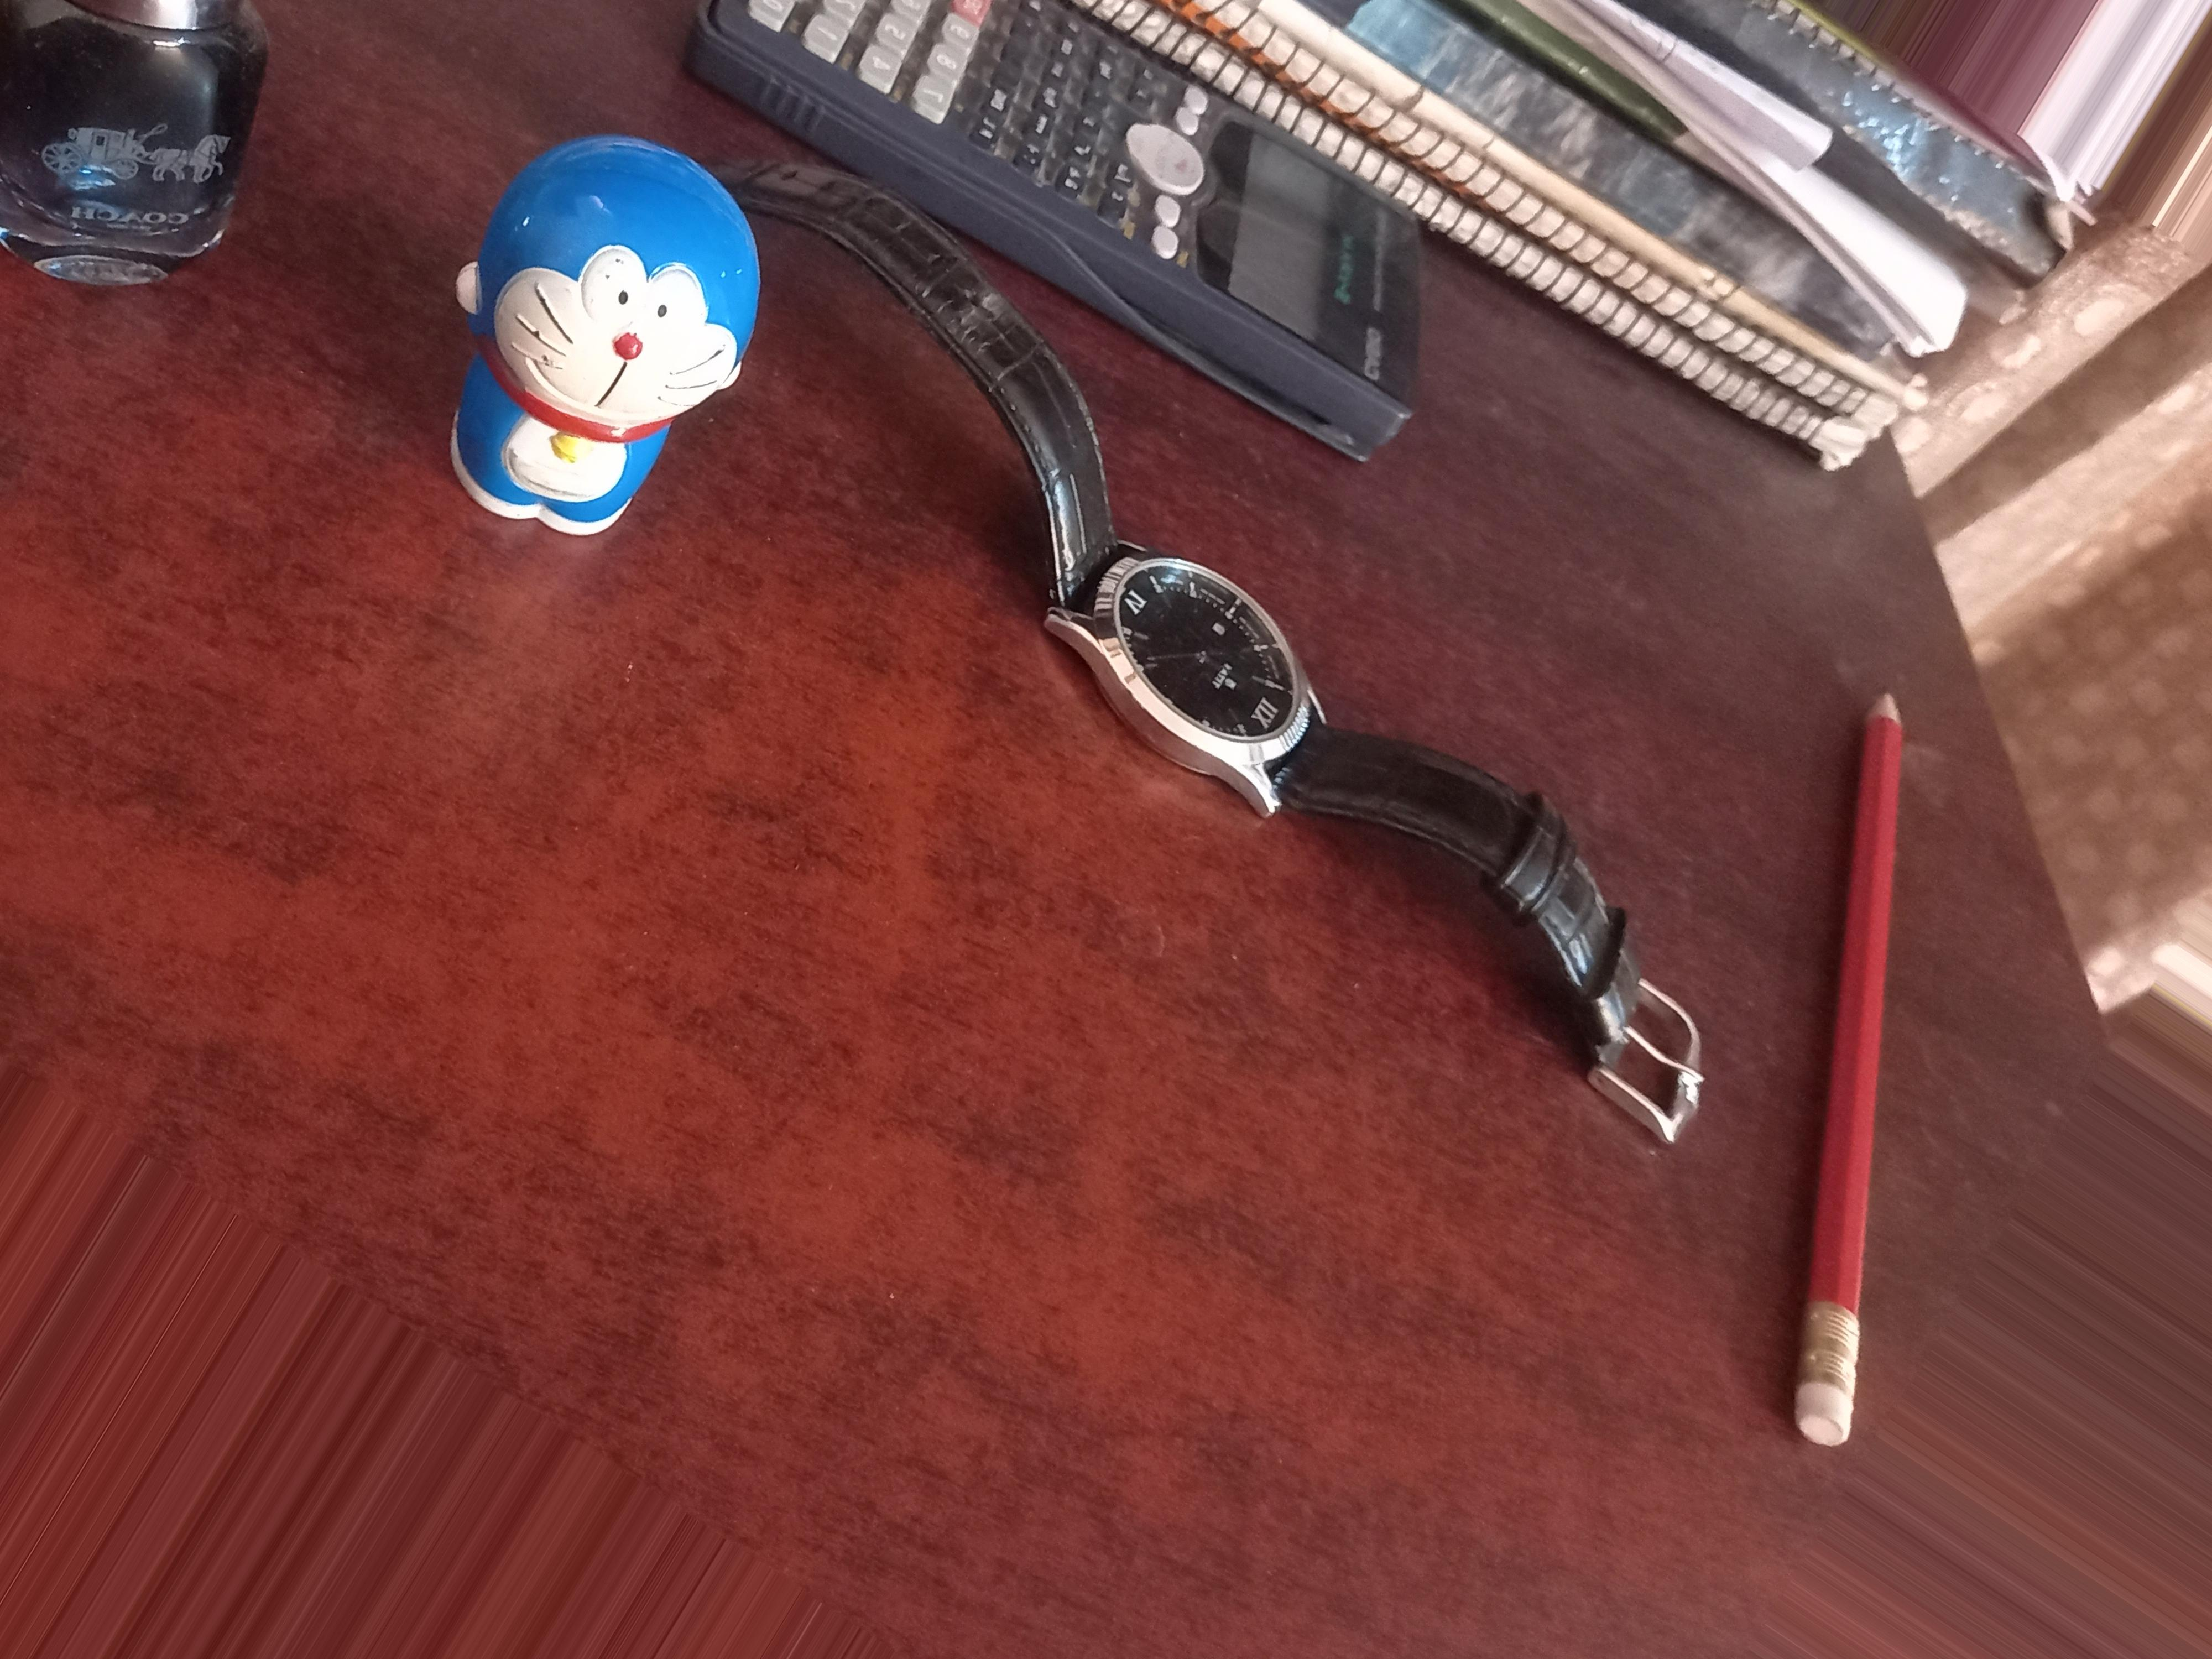calculator: (956, 465, 1674, 1145), (1033, 10, 1379, 371)
doraemon: (521, 139, 738, 580)
pencil: (1801, 660, 1940, 1490)
perfume: (3, 5, 251, 293)
